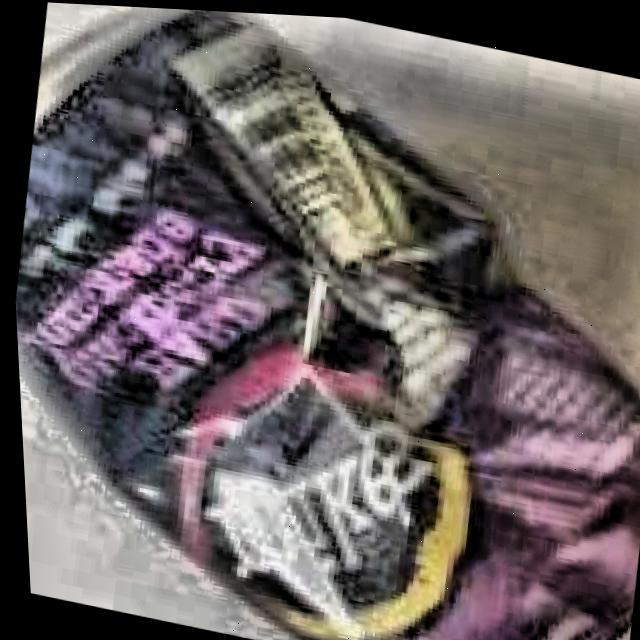metal: (12, 5, 640, 640)
